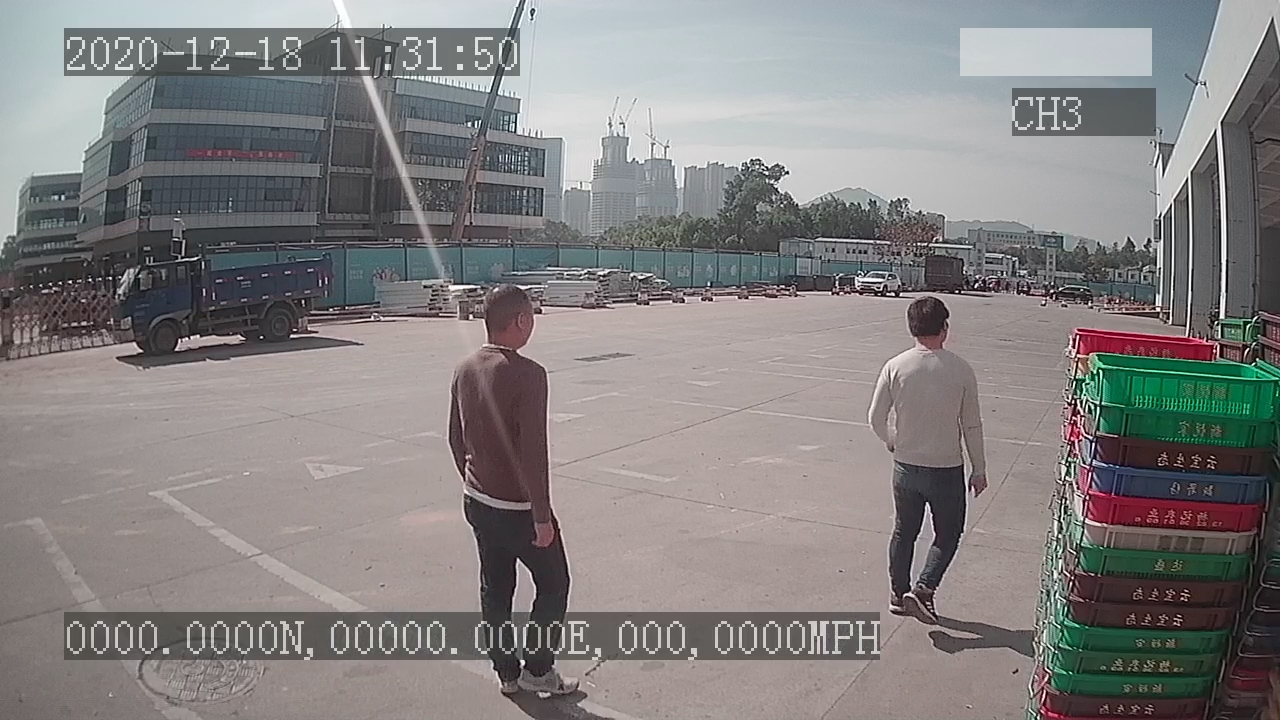person: (866, 297, 995, 622)
